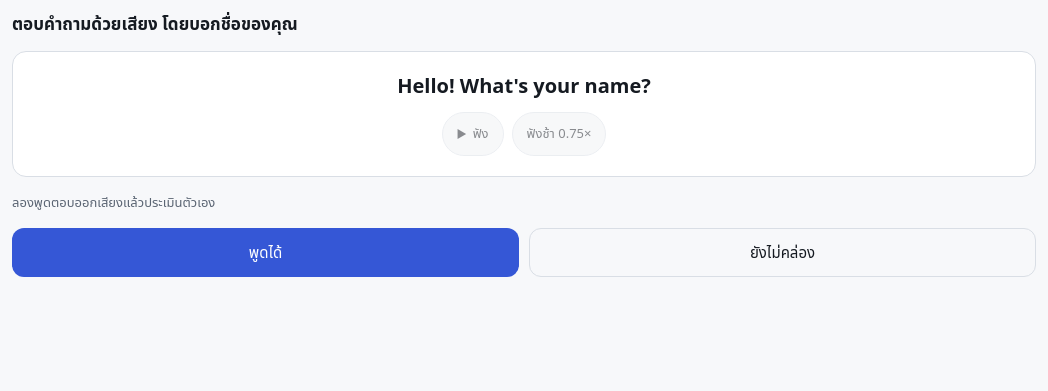
SpeakAnswer › rating ยังไม่คล่อง answers once with unsure and reveals the sample answer
The image size is (1048, 391).
Later steps or results of the test are not shown.
Step 1. Click the button "ยังไม่คล่อง" → (782,253), box [529,228,1036,277]
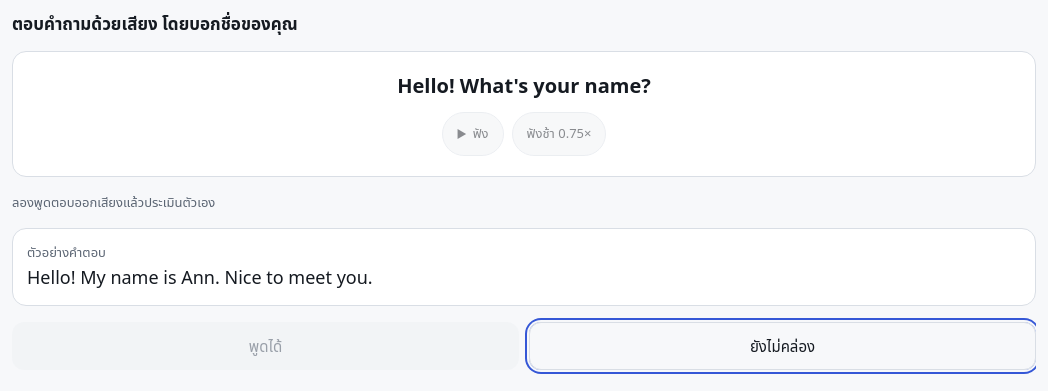
Check: the text "Hello! My name is Ann. Nice to meet you." is shown, box [27,265,373,289]
Check: the button "พูดได้" is disabled, box [12,322,519,370]
Check: the button "ยังไม่คล่อง" is disabled, box [529,322,1036,370]
